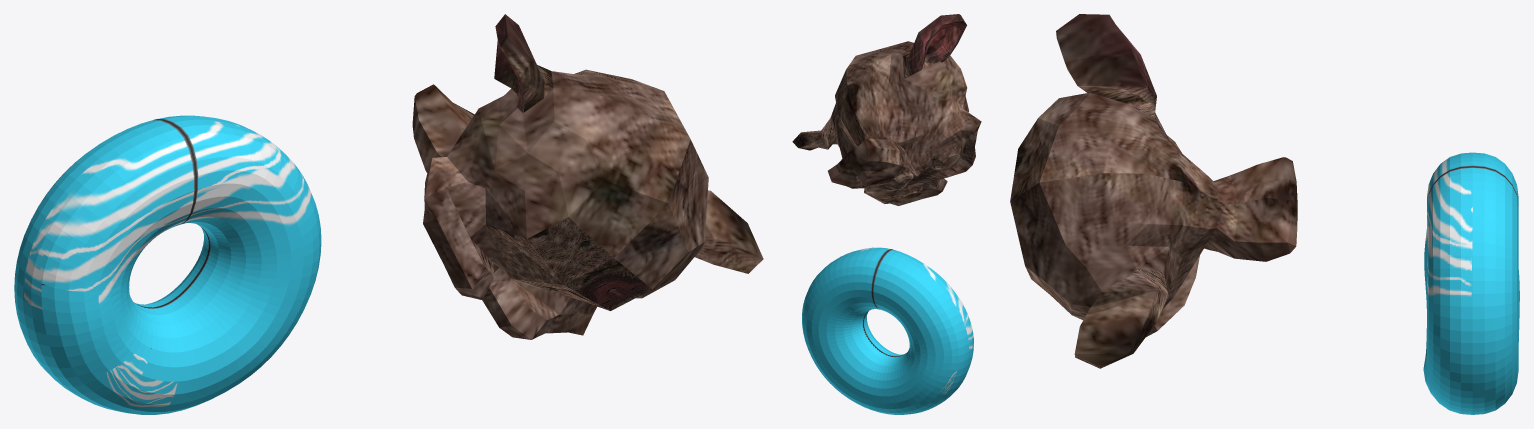
3 renders of one model, left to right at view 1: azimuth 30°, elevation 25°; view 2: azimuth 150°, elevation 25°; view 3: azimuth 270°, elevation 25°, orthographic. The views are drawn at different scales.
Visible parts, largest first — view 1: Torus, Suzanne; view 2: Suzanne, Torus; view 3: Suzanne, Torus.
Part boxes in pixels (x1,y1,x2,y2): Torus: (14,115,321,414); Suzanne: (412,14,763,339); Suzanne: (792,14,981,205); Torus: (802,247,973,414); Suzanne: (1010,14,1297,368); Torus: (1423,152,1519,414).
Bounding box in the file's own units: 2.88 × 2.74 × 2.91.
Materials: 2 (2 with a texture image).
